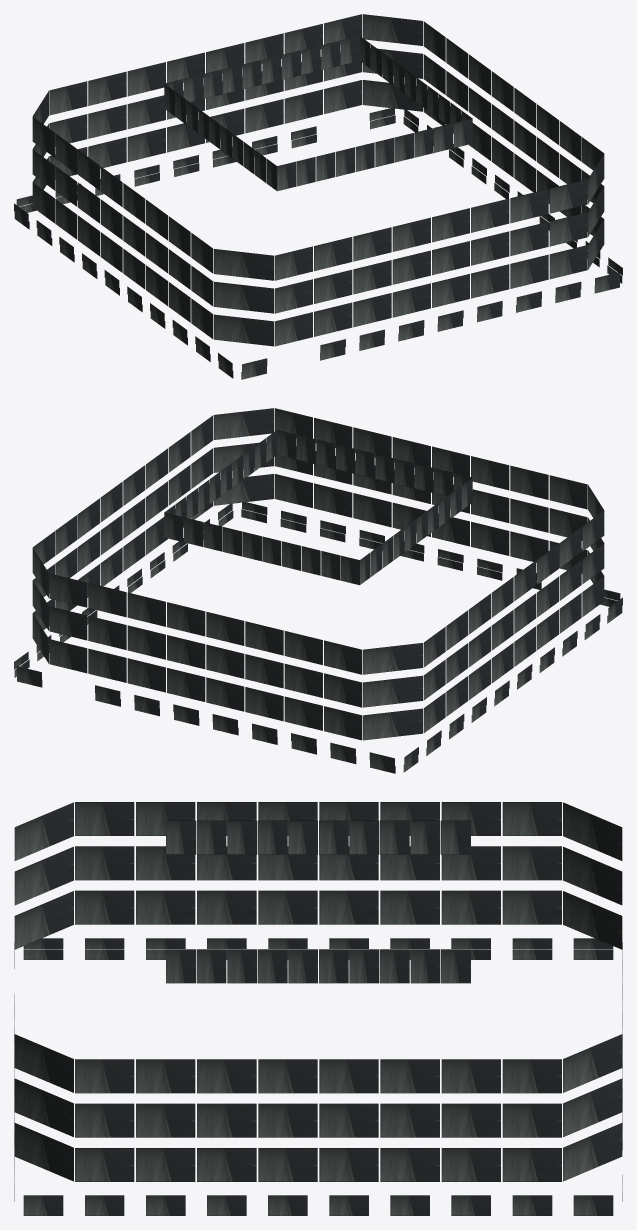
Rendered from TRANS_Building_4stores_CommercialCentre.obj.
3 renders of one model, top to bottom at view 1: azimuth 30°, elevation 25°; view 2: azimuth 150°, elevation 25°; view 3: azimuth 270°, elevation 25°, orthographic. The views are drawn at different scales.
Visible parts, largest first — view 1: TRANS_Building_4stores_CommercialCentre; view 2: TRANS_Building_4stores_CommercialCentre; view 3: TRANS_Building_4stores_CommercialCentre.
Part boxes in pixels (bbox=[...]): TRANS_Building_4stores_CommercialCentre: bbox=[14, 14, 622, 379]; TRANS_Building_4stores_CommercialCentre: bbox=[14, 408, 622, 773]; TRANS_Building_4stores_CommercialCentre: bbox=[14, 802, 622, 1215].
Size of the model in its own units: 13.08 by 4.81 by 13.08.
